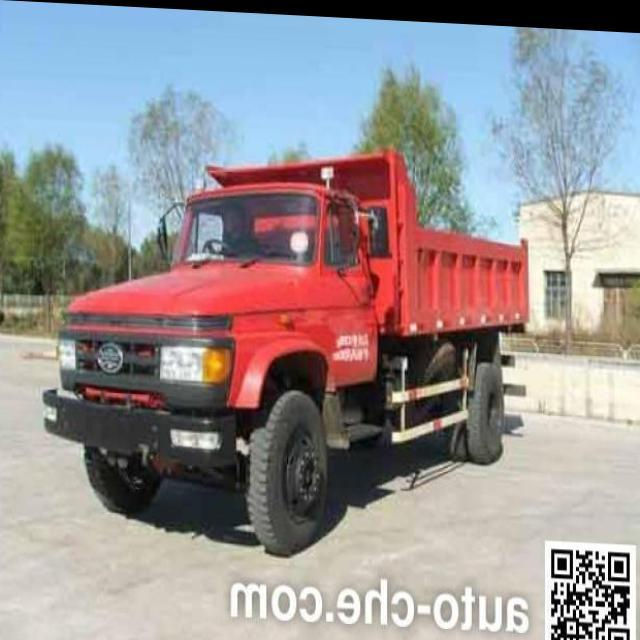uncovered: (39, 121, 542, 548)
